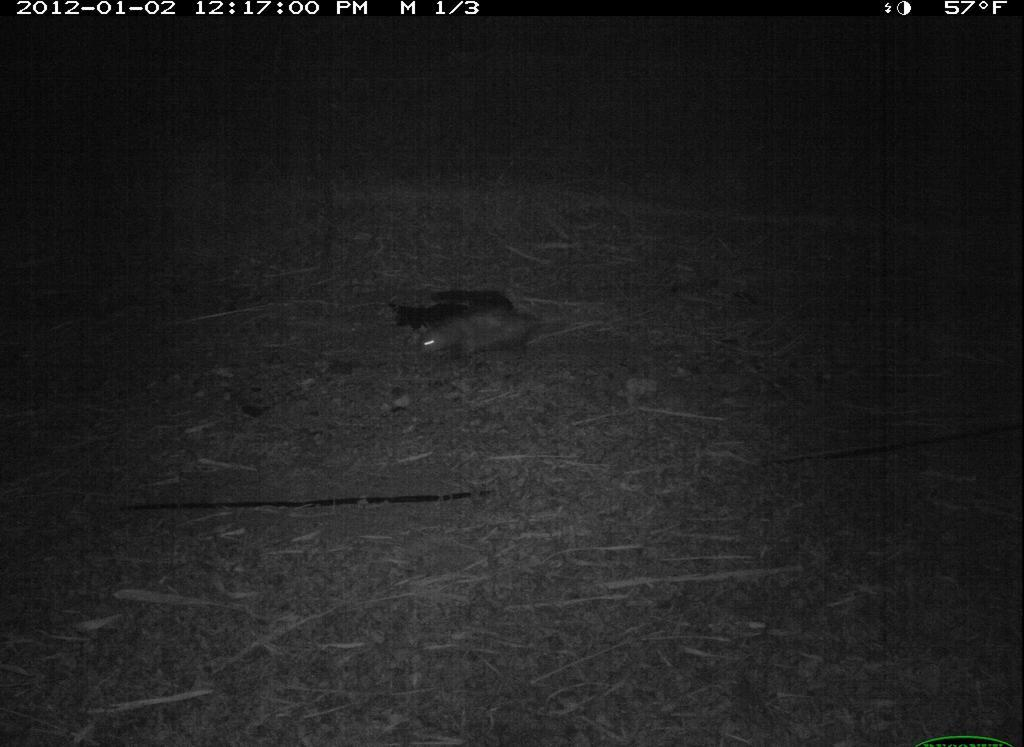opossum: (386, 286, 583, 392)
